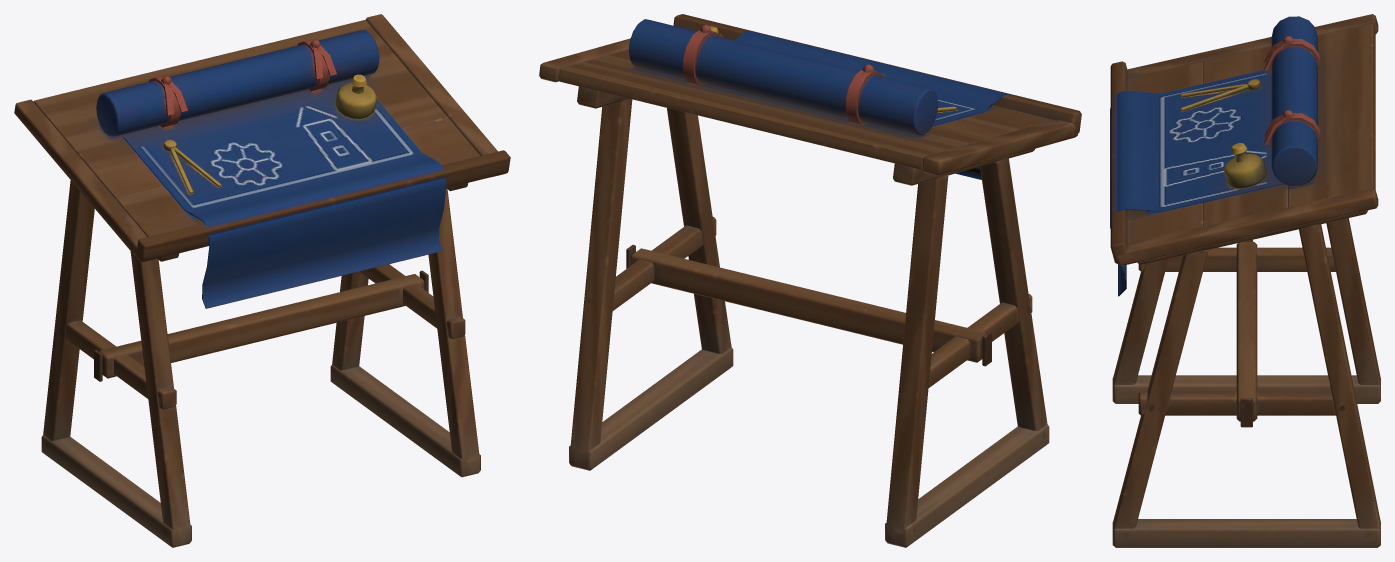
The model's file is blueprint.glb.
3 views of the same model, side by side, from view 1: azimuth 30°, elevation 25°; view 2: azimuth 150°, elevation 25°; view 3: azimuth 270°, elevation 25° (orthographic). The views are drawn at different scales.
Parts seen in each view (by area): view 1: blueprint; view 2: blueprint; view 3: blueprint.
Boxes of the visible parts, box(x1,y1,x2,y2) form: blueprint: box(14, 14, 510, 547); blueprint: box(539, 14, 1081, 547); blueprint: box(1110, 14, 1380, 547).
Bounding box in the file's own units: 0.84 × 0.8526 × 0.5253.
1 material, 1 textured.
